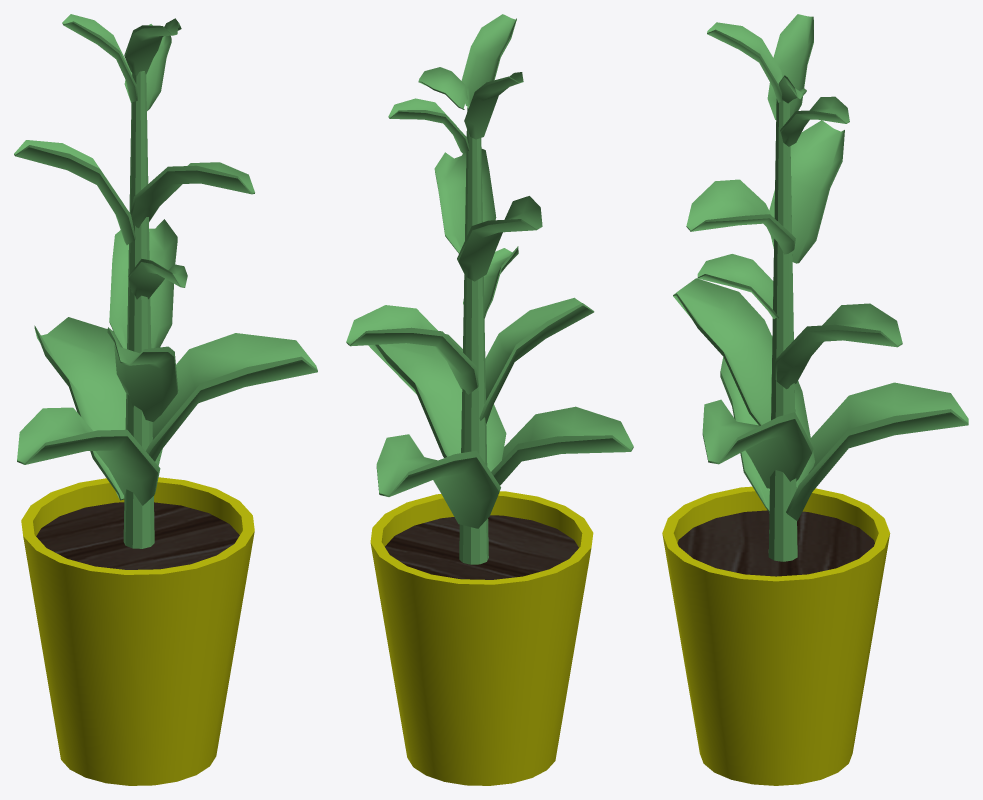
File: Livingroomplant.gltf
The picture shows the model from 3 angles, left to right: view 1: azimuth 30°, elevation 25°; view 2: azimuth 150°, elevation 25°; view 3: azimuth 270°, elevation 25°; orthographic projection. The views are drawn at different scales.
Parts seen in each view (by area): view 1: plant; view 2: plant; view 3: plant.
Part boxes in pixels (box(x1,y1,x2,y2)): plant: box(14, 14, 317, 785); plant: box(346, 14, 633, 785); plant: box(662, 14, 968, 785).
Bounding box in the file's own units: 0.7004 × 1.75 × 0.6662.
Materials: 3 (1 with a texture image).
